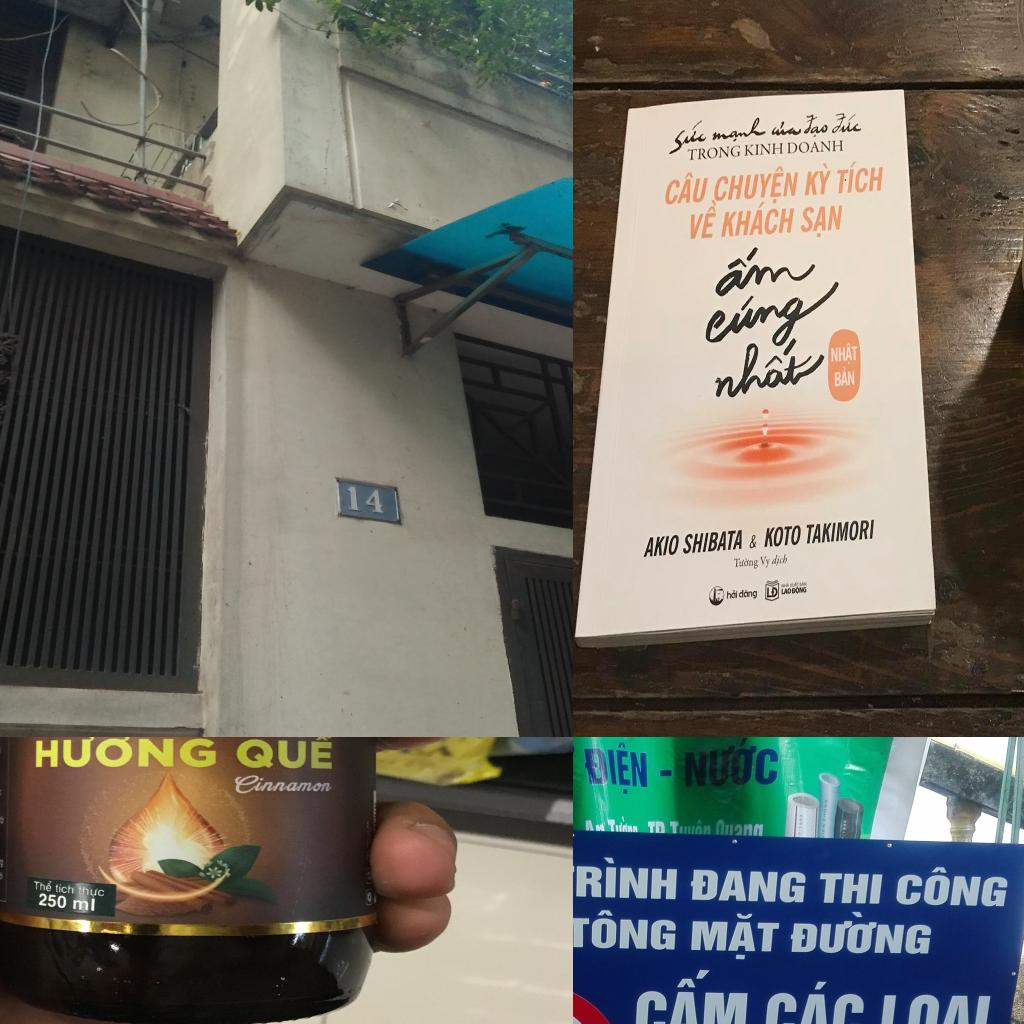text: (704, 280, 848, 347), (709, 322, 831, 401), (622, 959, 749, 1024), (30, 737, 221, 774), (789, 913, 936, 959), (708, 244, 826, 296), (676, 737, 787, 791), (757, 970, 865, 1024), (893, 864, 1012, 912), (573, 850, 679, 903), (686, 866, 810, 908), (686, 910, 785, 959), (573, 908, 677, 954), (874, 987, 996, 1024), (582, 737, 650, 797), (232, 737, 344, 771), (716, 164, 802, 203), (720, 198, 798, 240), (814, 869, 884, 905), (229, 774, 337, 796), (805, 515, 879, 545), (683, 526, 746, 556), (837, 158, 889, 194), (800, 200, 848, 238), (663, 171, 713, 207), (688, 196, 723, 243), (668, 118, 710, 156), (711, 116, 767, 143), (804, 158, 836, 199), (762, 520, 804, 549), (34, 894, 98, 912), (640, 531, 682, 556), (788, 136, 846, 154), (688, 144, 742, 162), (831, 333, 861, 365), (829, 362, 861, 392), (832, 111, 868, 134), (744, 138, 786, 156), (768, 116, 804, 136), (806, 112, 834, 136), (76, 883, 108, 899), (732, 554, 760, 570), (757, 550, 774, 572), (772, 554, 792, 572), (740, 584, 760, 602), (33, 877, 54, 893), (55, 882, 76, 895), (724, 584, 741, 600), (765, 584, 781, 600), (793, 586, 809, 598), (782, 584, 794, 598)
